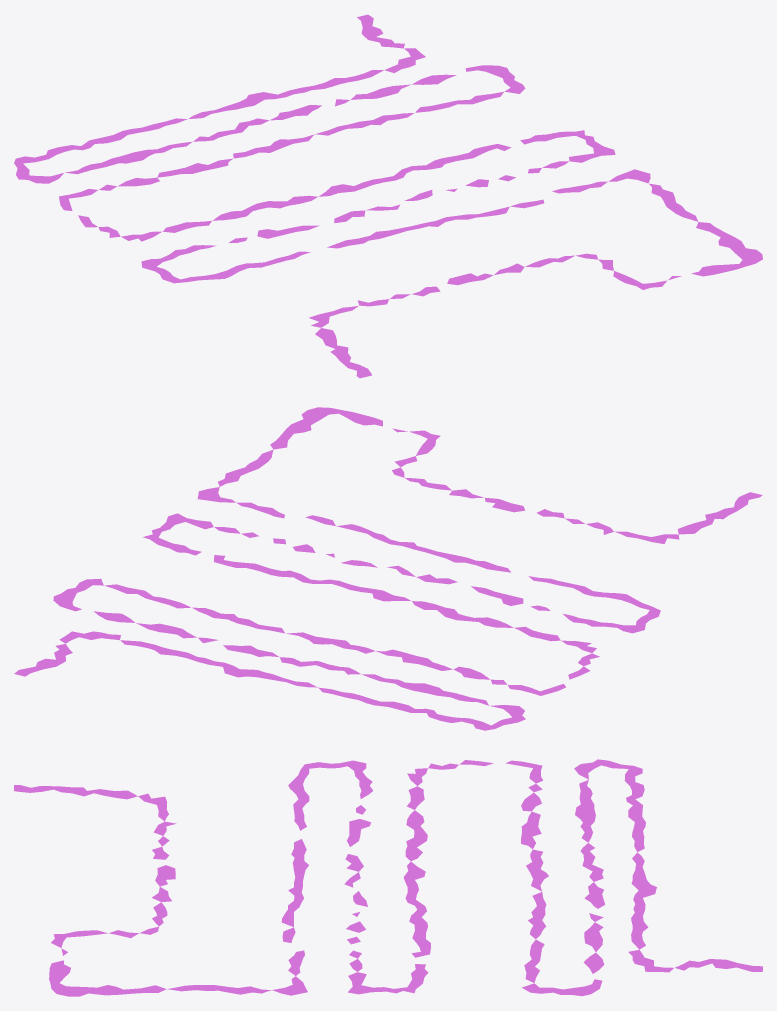
Rendered from PathRestaurant.fbx.
3 renders of one model, top to bottom at view 1: azimuth 30°, elevation 25°; view 2: azimuth 150°, elevation 25°; view 3: azimuth 270°, elevation 25°, orthographic.
Parts seen in each view (by area): view 1: Plane; view 2: Plane; view 3: Plane.
Boxes of the visible parts, box(x1,y1,x2,y2) form: Plane: box(14, 14, 762, 378); Plane: box(14, 407, 762, 730); Plane: box(14, 759, 762, 996).
Size of the model in its own units: 2412 by 0.00061 by 3219.
